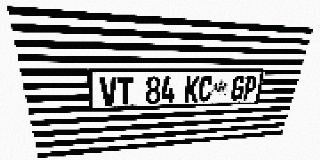4: (160, 76, 176, 103)
8: (145, 76, 161, 104)
C: (198, 76, 214, 102)
G: (230, 76, 246, 100)
K: (184, 76, 200, 102)
P: (242, 76, 258, 100)
T: (117, 76, 133, 105)
V: (99, 77, 117, 106)
